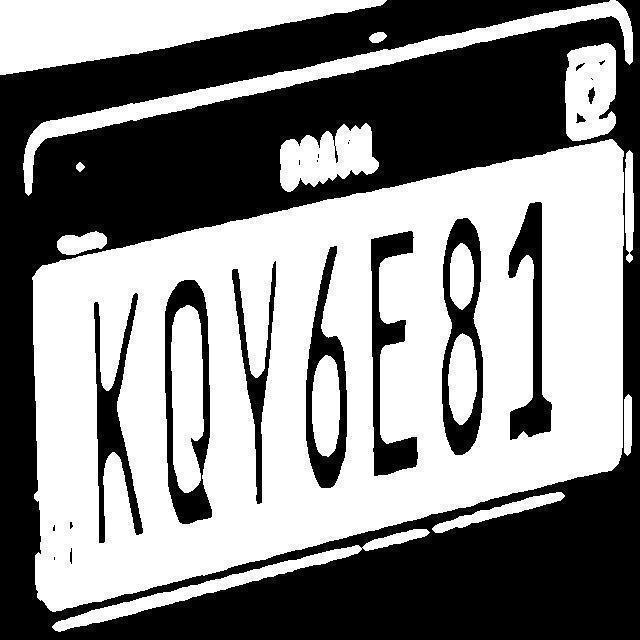1: (501, 194, 559, 448)
6: (297, 237, 353, 496)
8: (433, 212, 495, 463)
e: (363, 226, 427, 486)
k: (81, 272, 148, 559)
q: (155, 269, 219, 536)
y: (224, 257, 287, 511)
